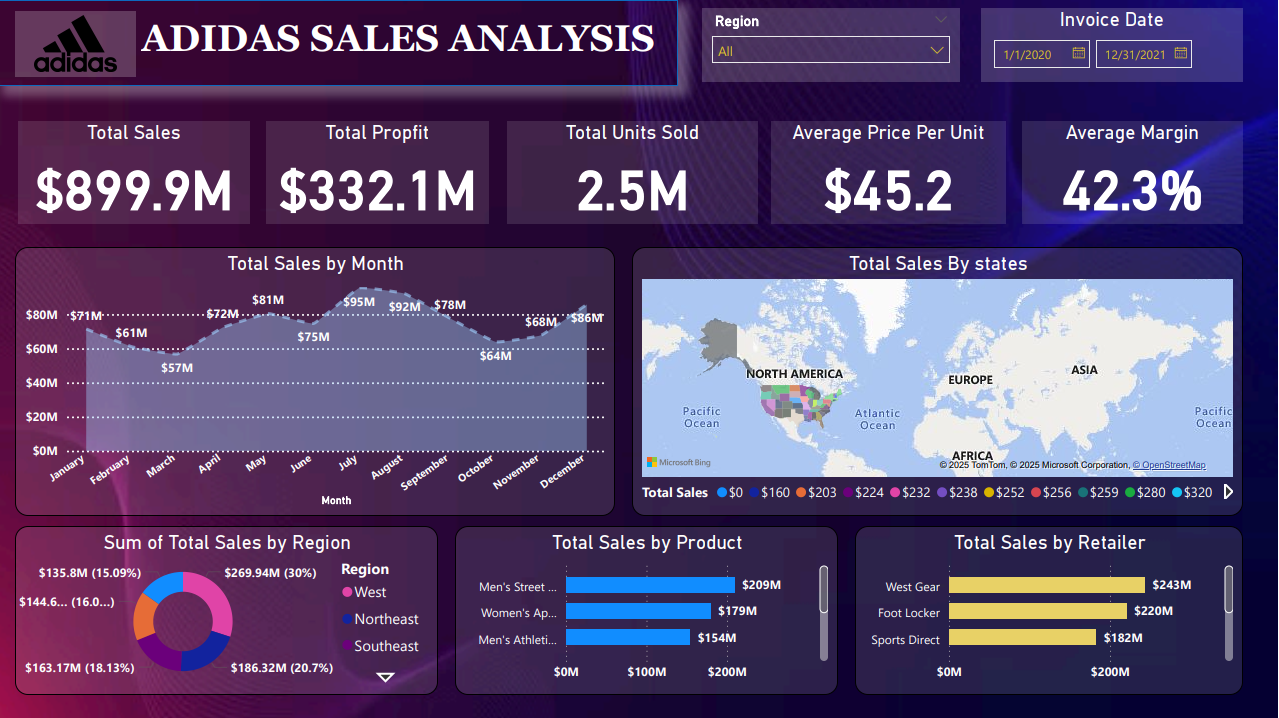

What the dashboard file says about the page in this screenshot:
{"tool":"powerbi","page":{"name":"Page 1","canvas":[1280,720],"ordinal":0},"visuals":[{"type":"shape","box":[0,0,679.9,85.6],"z":0},{"type":"textbox","box":[138.1,11.7,541.8,66.1],"z":1000},{"type":"card","title":"Total Sales","fields":{"Values":["Sum(Data Sales Adidas.Total Sales)"]},"box":[20.4,120.6,231.5,103.1],"z":2000},{"type":"image","box":[17,11.3,120.9,66.1],"z":3000},{"type":"card","title":"Total Units Sold","fields":{"Values":["Sum(Data Sales Adidas.Units Sold)"]},"box":[508.7,120.6,250.9,103.1],"z":4000},{"type":"card","title":"Average Price Per Unit","fields":{"Values":["Avg(Data Sales Adidas.Price per Unit)"]},"box":[773.3,120.6,234.4,103.1],"z":5000},{"type":"card","title":"Average Margin","fields":{"Values":["Avg(Data Sales Adidas.Operating Margin)"]},"box":[1024.2,120.6,220.8,103.1],"z":6000},{"type":"card","title":"Total Propfit","fields":{"Values":["Sum(Data Sales Adidas.Operating Profit)"]},"box":[268.4,120.6,222.7,103.1],"z":7000},{"type":"areaChart","title":"Total Sales by Month","fields":{"Category":["Data Sales Adidas.Invoice Date.Variation.Date Hierarchy.Month"],"Y":["Sum(Data Sales Adidas.Total Sales)"]},"box":[16.5,247.1,600.1,269.4],"z":8000},{"type":"filledMap","title":"Total Sales By states","fields":{"Category":["Data Sales Adidas.State"],"Series":["Data Sales Adidas.Total Sales"]},"box":[634.2,247.1,610.8,269.4],"z":9000},{"type":"donutChart","fields":{"Category":["Data Sales Adidas.Region"],"Y":["Sum(Data Sales Adidas.Total Sales)"]},"box":[16.5,526.2,423.1,169.2],"z":10000},{"type":"barChart","title":"Total Sales by Product","fields":{"Category":["Data Sales Adidas.Product"],"Y":["Sum(Data Sales Adidas.Total Sales)"]},"box":[457.1,526.2,383.2,169.2],"z":11000},{"type":"barChart","title":"Total Sales by Retailer","fields":{"Y":["Sum(Data Sales Adidas.Total Sales)"],"Category":["Data Sales Adidas.Retailer"]},"box":[856.9,526.2,388.1,169.2],"z":12000},{"type":"slicer","fields":{"Values":["Data Sales Adidas.Region"]},"box":[704.2,7.8,257.8,73.9],"z":12001},{"type":"slicer","title":"Invoice Date","fields":{"Values":["Data Sales Adidas.Invoice Date"]},"box":[983.3,7.8,261.6,73.9],"z":12002}]}

Visuals, with their boxes in screenshot pixels (x1, y1, x2, y2), scaled from the page's 1280x720 canvas onto the 1279x718 screenshot:
shape: 0 0 679 85
textbox: 138 12 679 78
"Total Sales" card: 20 120 252 223
image: 17 11 138 77
"Total Units Sold" card: 508 120 759 223
"Average Price Per Unit" card: 773 120 1007 223
"Average Margin" card: 1023 120 1244 223
"Total Propfit" card: 268 120 491 223
"Total Sales by Month" areaChart: 16 246 616 515
"Total Sales By states" filledMap: 634 246 1244 515
donutChart - Data Sales Adidas.Region x Sum(Data Sales Adidas.Total Sales): 16 525 439 693
"Total Sales by Product" barChart: 457 525 840 693
"Total Sales by Retailer" barChart: 856 525 1244 693
slicer - Data Sales Adidas.Region: 704 8 961 81
"Invoice Date" slicer: 983 8 1244 81
